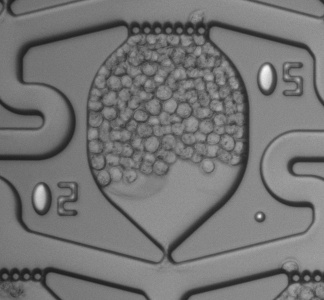AptNum: (249, 57, 311, 102)
Marker: (245, 205, 275, 232)
StNum: (26, 176, 88, 226)
Trap: (146, 254, 190, 296)
